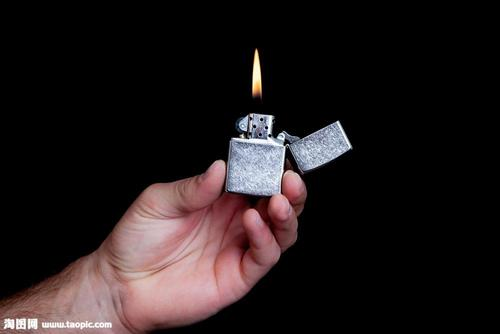fire: (242, 40, 280, 113)
